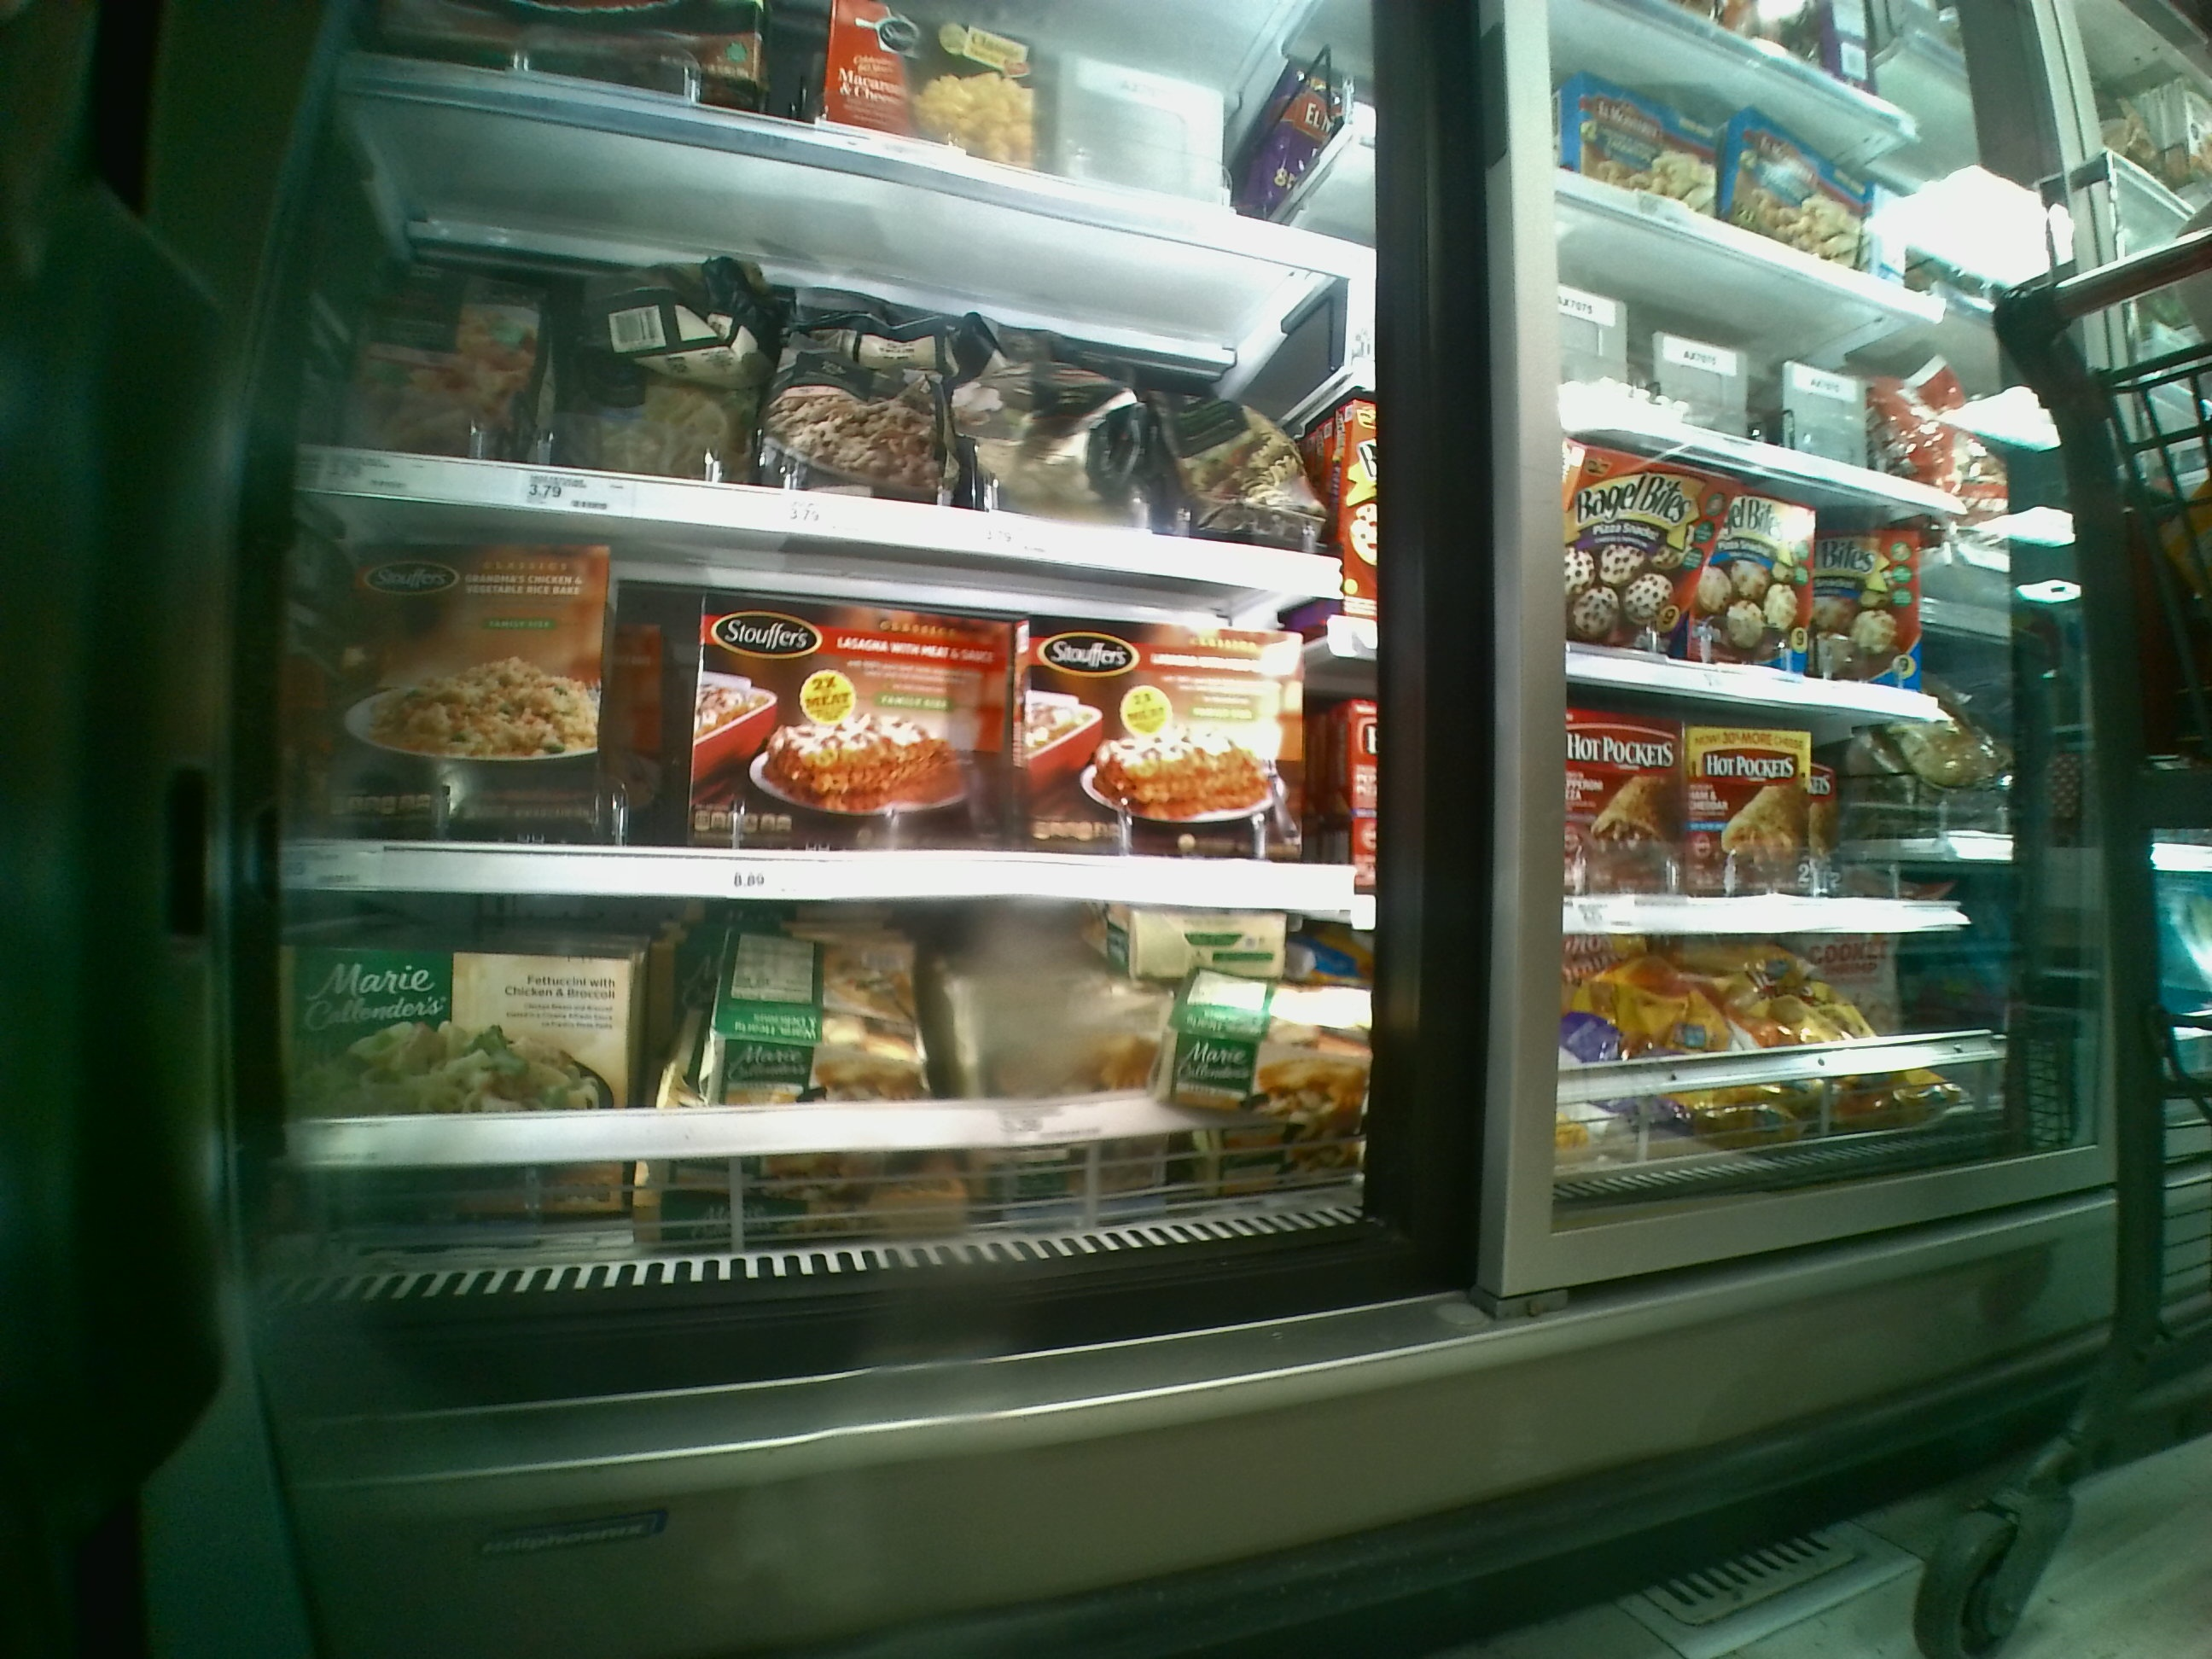shelf: (317, 188, 1355, 570), (279, 563, 1362, 917), (280, 884, 1362, 1237)
